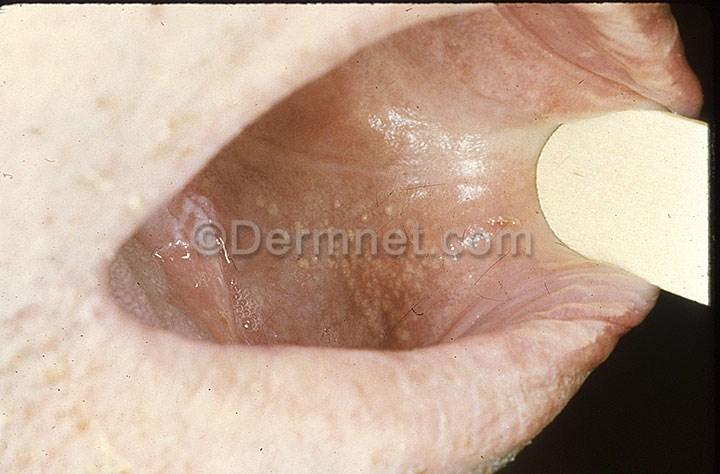Acne: (247, 187, 293, 228), (377, 325, 426, 352)
